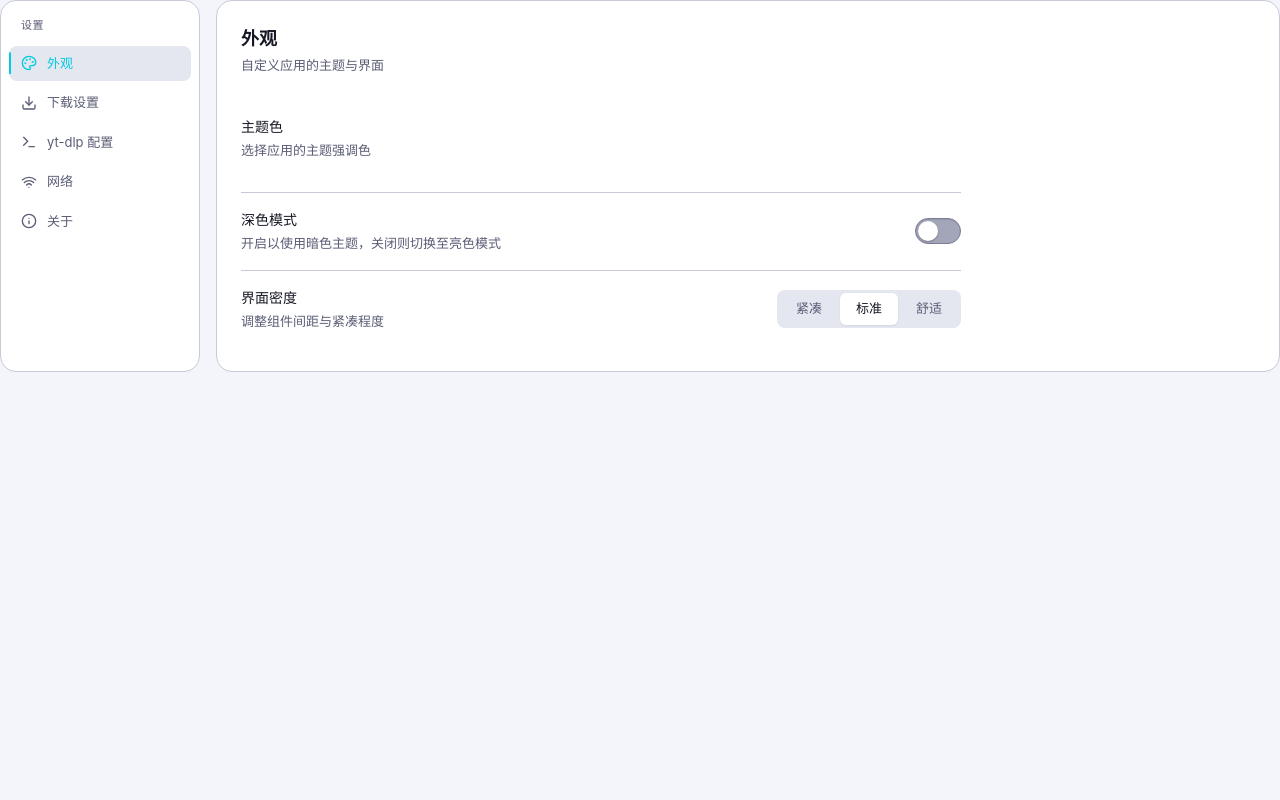
Test: SettingsView › shows a working proxy toggle in the network panel
Click the button with test id "settings-nav-network": (100, 182) [9, 164, 191, 200]
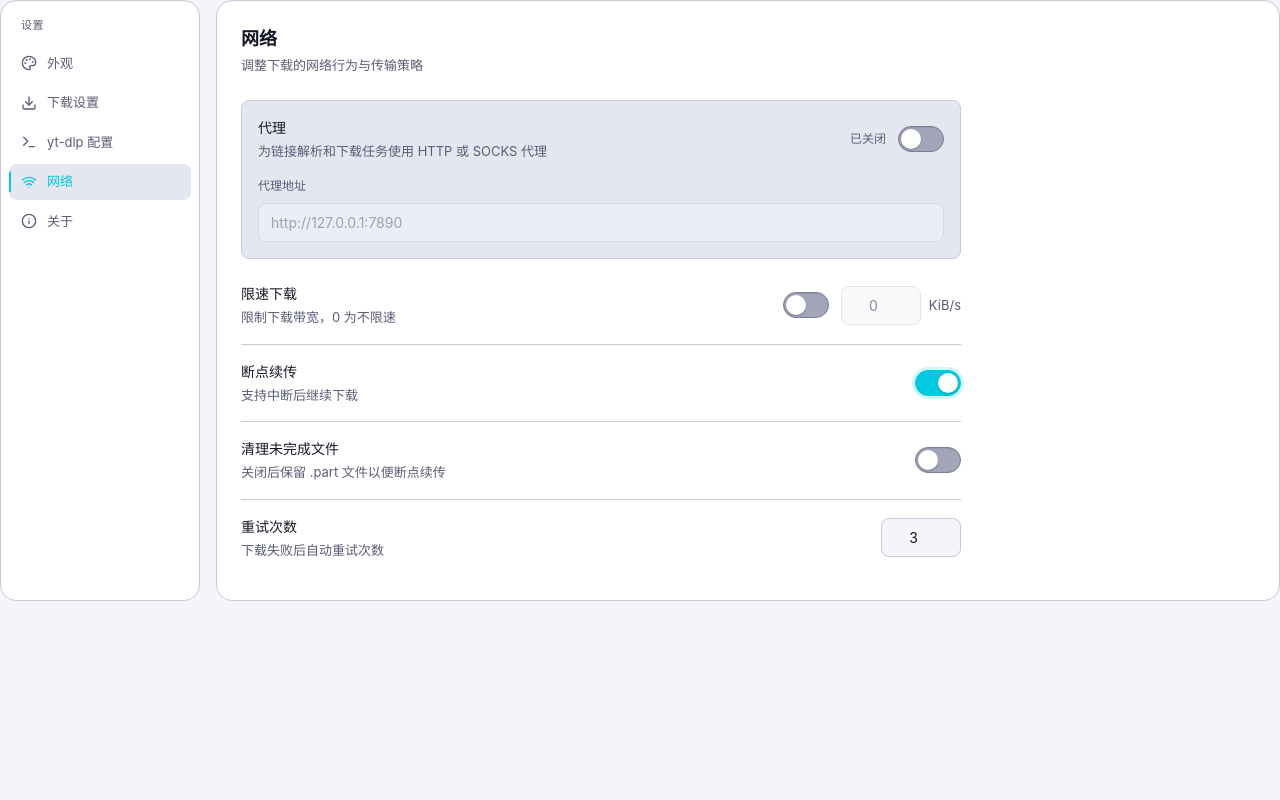
Now the element with test id "network-proxy-settings" shows "代理", box [258, 118, 286, 136]
Now the element with test id "network-proxy-settings" shows "已关闭", box [850, 131, 886, 146]
Click the switch with test id "proxy-toggle": (921, 139) [898, 126, 944, 152]
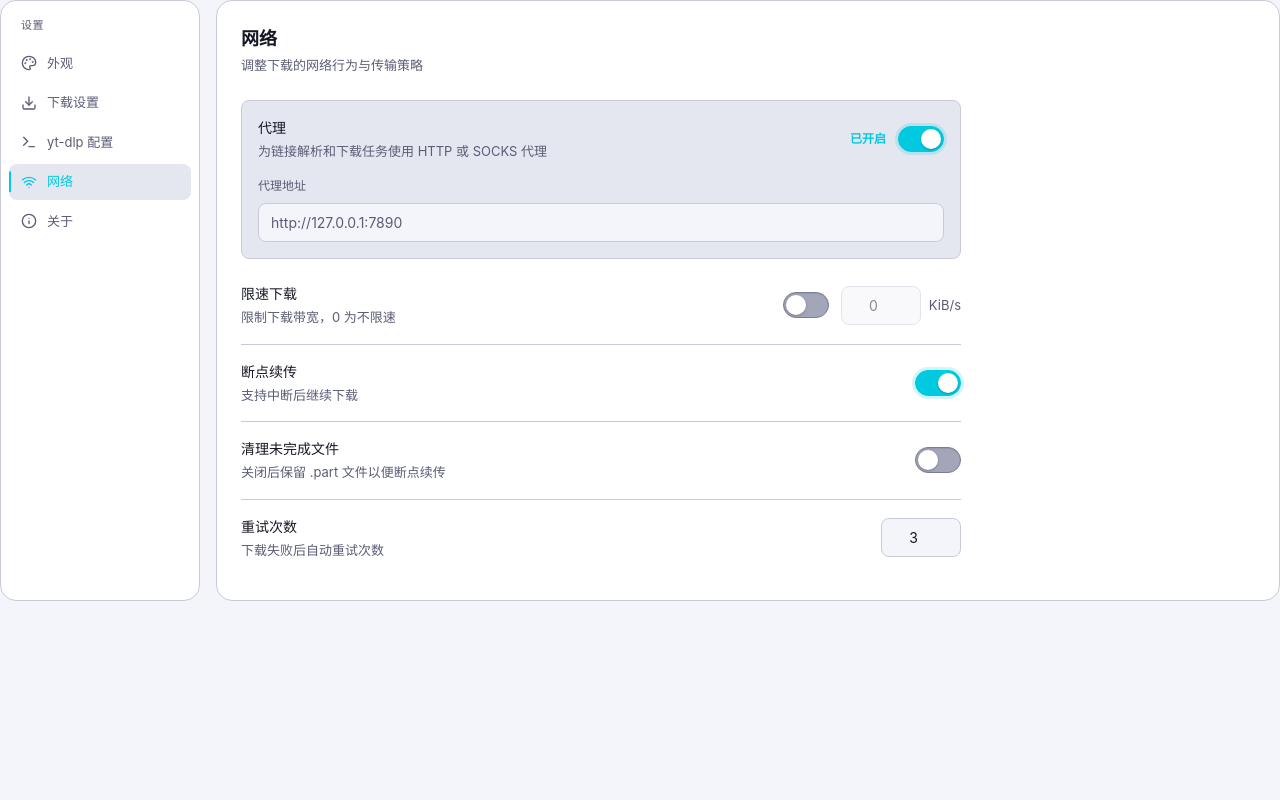
Now the element with test id "network-proxy-settings" shows "已开启", box [850, 131, 886, 146]
Now the field with placeholder "http://127.0.0.1:7890" is enabled, box [258, 203, 944, 242]
